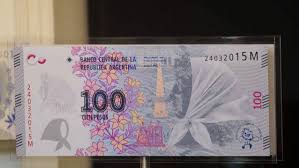billete: (12, 44, 272, 158)
